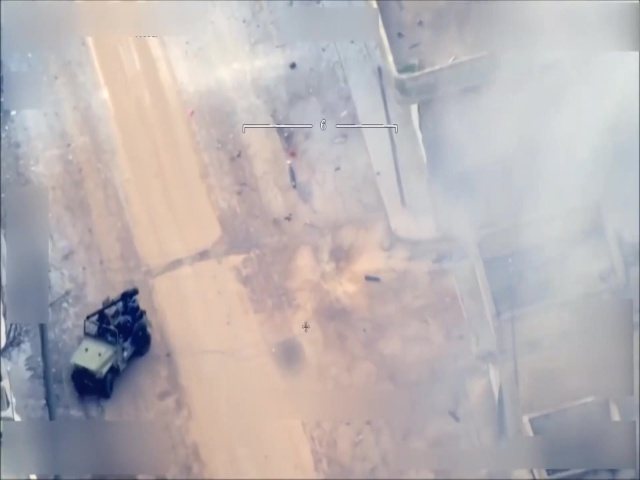vehicle: (69, 290, 153, 401)
